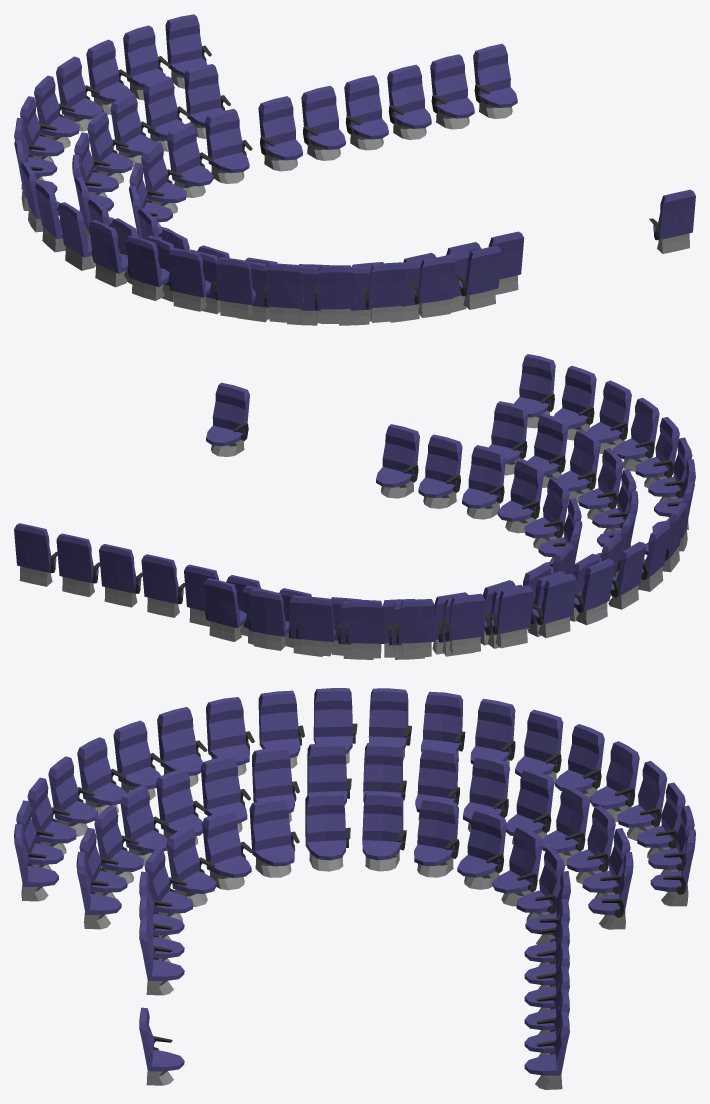
Rendered from Seats.fbx.
The picture shows the model from 3 angles, top to bottom: view 1: azimuth 30°, elevation 25°; view 2: azimuth 150°, elevation 25°; view 3: azimuth 270°, elevation 25°; orthographic projection. The views are drawn at different scales.
Visible parts, largest first — view 1: Seats; view 2: Seats; view 3: Seats.
Boxes of the visible parts, left/top/right/bottom form: Seats: left=14, top=14, right=695, bottom=325; Seats: left=14, top=354, right=695, bottom=659; Seats: left=14, top=688, right=695, bottom=1089.
Size of the model in its own units: 600 by 114 by 600.
1 material, 1 textured.
